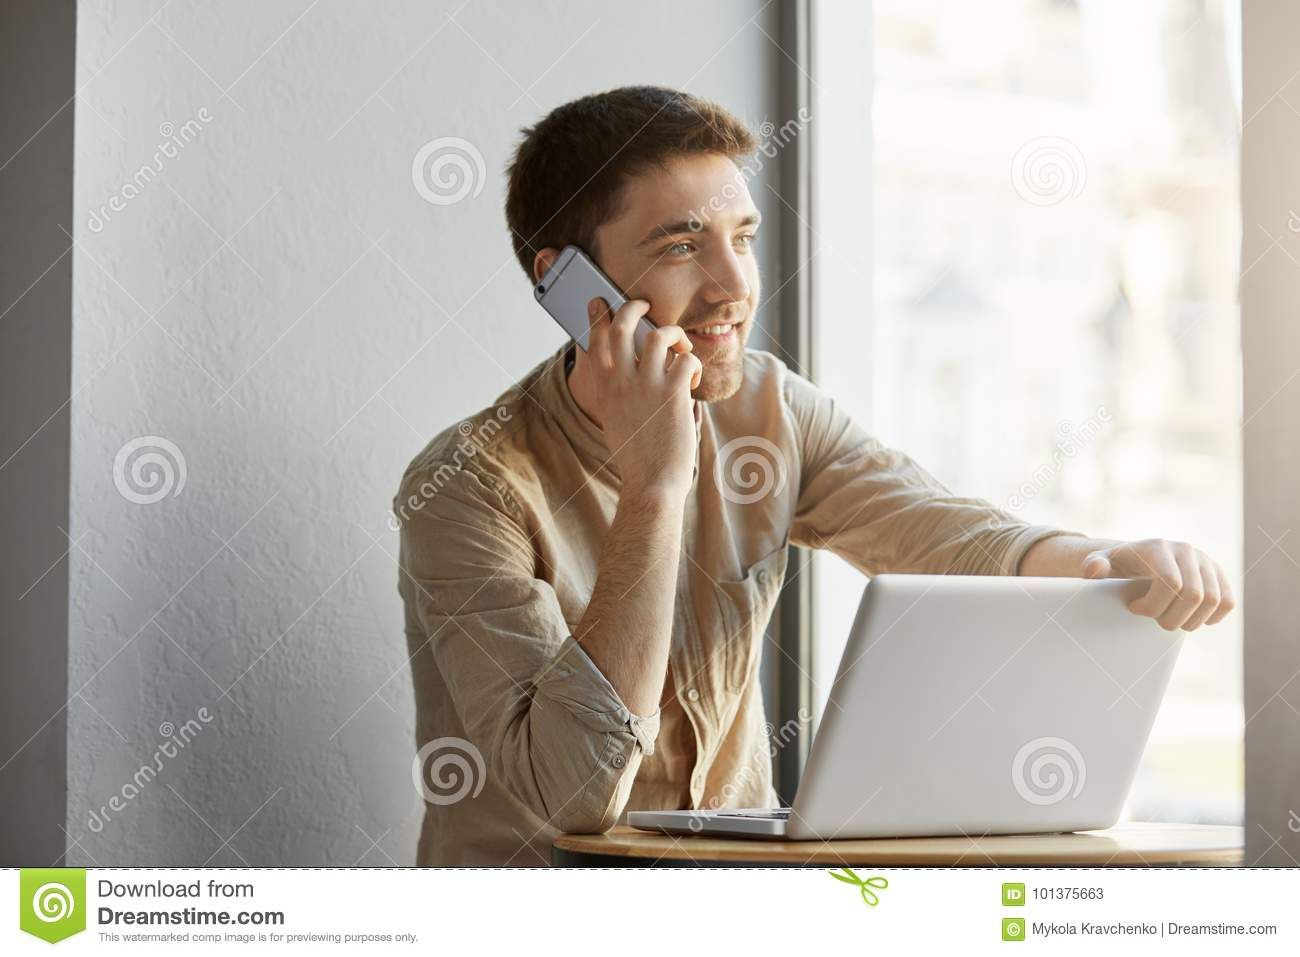phone: (536, 241, 682, 396)
talk: (536, 206, 762, 502)
